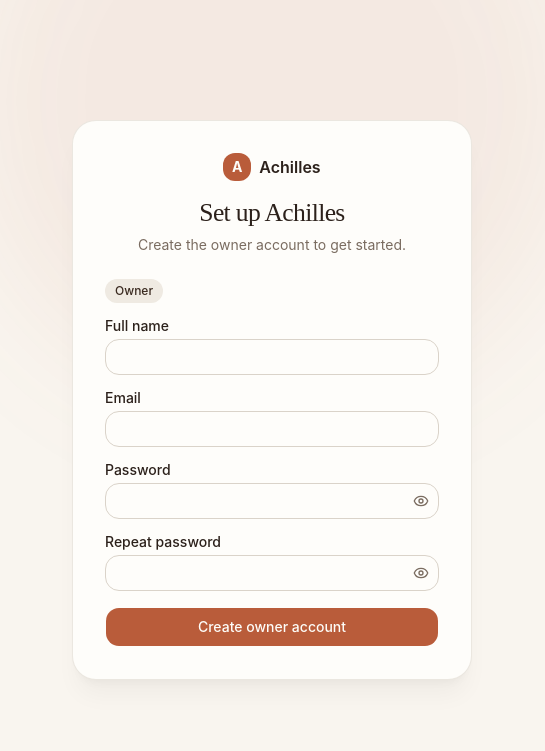
Test: SetupWizardPage › blocks submit and shows an error when passwords differ
Type "First Owner" into the field labelled "Full name" at (272, 357), box top-left (105, 339), bottom-right (439, 375)
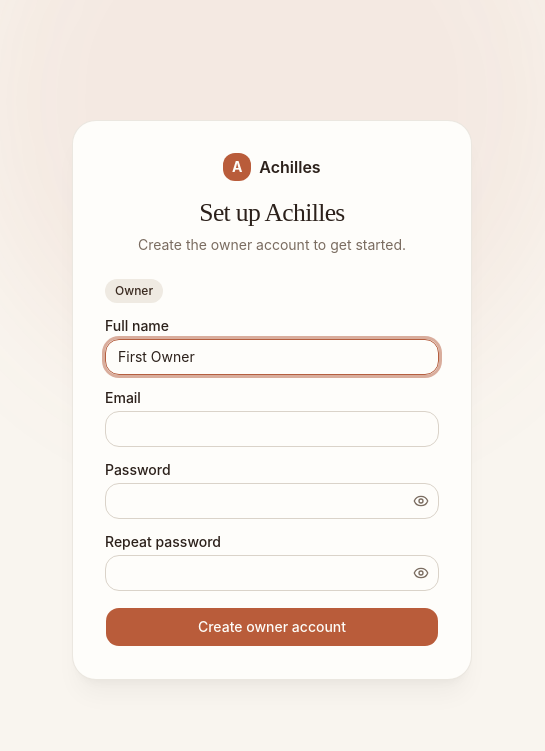
Type "owner@acme.example" into the field labelled "Email" at (272, 429), box top-left (105, 411), bottom-right (439, 447)
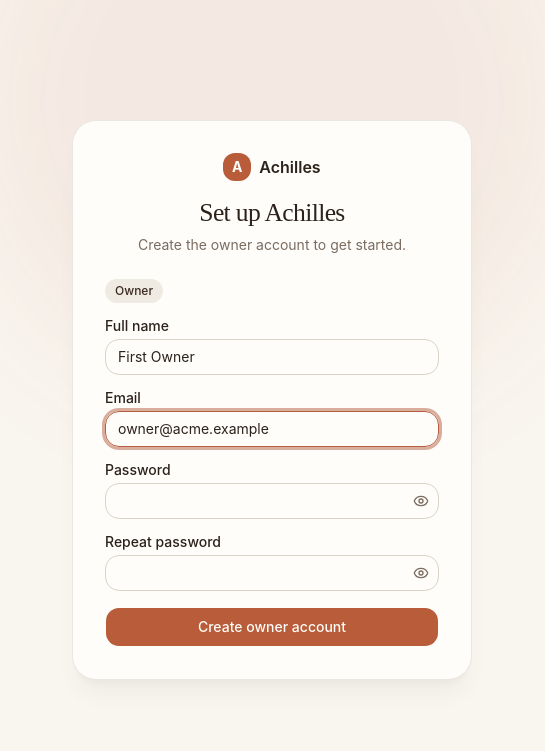
Type "a-strong-passphrase-2026" into the password field labelled "Password" at (272, 501), box top-left (105, 483), bottom-right (439, 519)
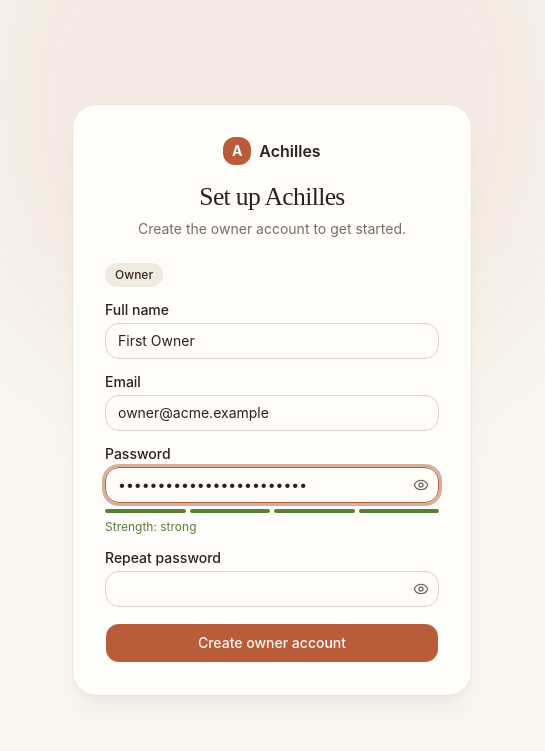
Type "different-2026" into the password field labelled "Repeat password" at (272, 589), box top-left (105, 571), bottom-right (439, 607)
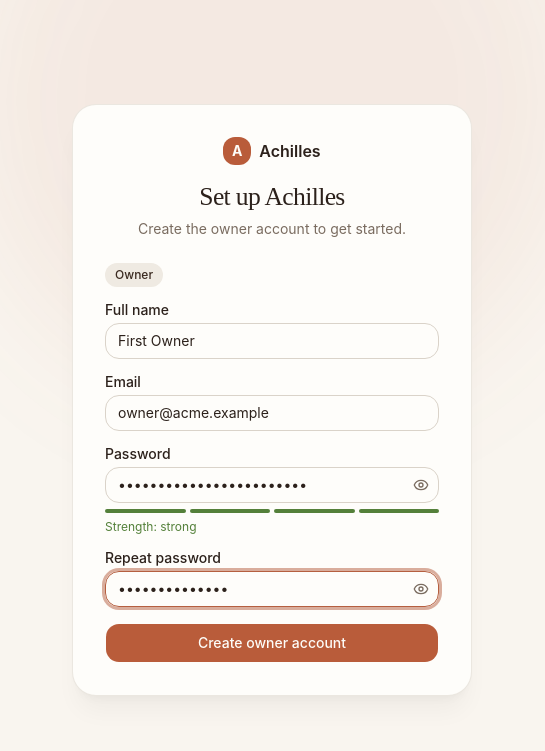
Click the button "Create owner account" at (272, 643), box top-left (105, 623), bottom-right (439, 663)
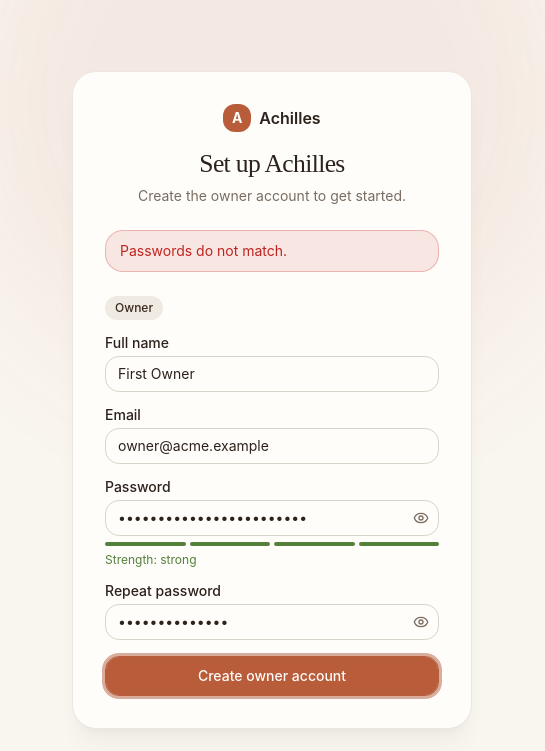
Expected: the text "Passwords do not match." is shown, top-left (105, 230), bottom-right (439, 272)
